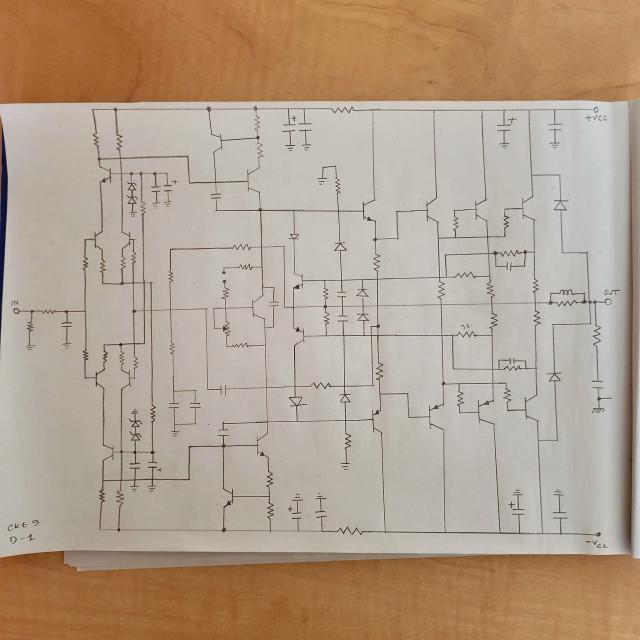capacitor: (496, 116, 518, 136), (506, 500, 526, 517), (281, 115, 297, 134), (297, 118, 313, 134), (163, 179, 179, 194), (286, 505, 302, 520), (551, 509, 569, 520), (146, 460, 162, 472), (218, 382, 230, 398), (547, 121, 564, 132), (589, 378, 604, 390), (215, 427, 231, 437), (313, 509, 328, 519), (166, 401, 181, 411), (267, 299, 280, 310), (128, 460, 142, 470), (502, 260, 514, 270), (336, 313, 348, 323), (208, 192, 223, 200), (187, 401, 200, 410), (58, 321, 74, 328), (335, 290, 347, 299), (151, 183, 160, 194), (506, 356, 517, 364)
crossover: (334, 208, 342, 214), (166, 306, 174, 312), (212, 179, 219, 185), (342, 418, 350, 423), (374, 302, 380, 308), (264, 419, 270, 425), (258, 243, 264, 249), (149, 476, 155, 482), (485, 250, 491, 256), (489, 366, 494, 372), (374, 276, 380, 281), (291, 304, 297, 309), (341, 333, 346, 339), (293, 383, 298, 389), (132, 476, 137, 482), (118, 477, 124, 482), (141, 279, 146, 285), (118, 155, 123, 161), (119, 170, 123, 177), (533, 300, 538, 305), (263, 385, 268, 390), (485, 234, 490, 239), (488, 302, 494, 306), (339, 304, 345, 308), (342, 384, 348, 388), (130, 280, 136, 284), (132, 340, 136, 346), (222, 306, 228, 310), (375, 333, 381, 337), (440, 332, 444, 337), (339, 277, 343, 282), (142, 308, 146, 313), (369, 332, 373, 337), (490, 380, 494, 384), (439, 302, 443, 306), (361, 304, 365, 308)
diode: (286, 394, 307, 408), (551, 197, 569, 213), (332, 240, 348, 254), (546, 371, 562, 384), (286, 231, 302, 242), (127, 417, 143, 428), (128, 430, 142, 442), (126, 194, 138, 207), (338, 392, 352, 403), (355, 312, 370, 322), (355, 288, 369, 298), (125, 180, 136, 191)
ground: (314, 175, 328, 187), (284, 142, 298, 153), (497, 139, 511, 150), (548, 139, 560, 150), (299, 141, 312, 151), (339, 461, 352, 471), (312, 492, 326, 501), (550, 488, 562, 498), (23, 343, 38, 351), (292, 491, 303, 501), (61, 341, 71, 352), (168, 429, 180, 438), (146, 484, 158, 493), (590, 407, 605, 414), (511, 488, 521, 498), (129, 483, 139, 492), (129, 408, 139, 416), (128, 210, 137, 218), (152, 201, 160, 209), (163, 201, 172, 208), (148, 307, 153, 312)
inductor: (558, 288, 573, 296)
junction: (204, 105, 213, 114), (439, 528, 448, 536), (430, 107, 438, 114), (369, 106, 376, 114), (252, 104, 259, 112), (440, 380, 447, 388), (448, 332, 455, 339), (255, 134, 262, 141), (595, 395, 602, 402), (478, 107, 486, 113), (550, 106, 558, 112), (374, 322, 380, 330), (516, 528, 522, 536), (186, 443, 192, 450), (115, 527, 122, 533), (557, 530, 564, 536), (525, 106, 532, 112), (89, 106, 96, 112), (141, 340, 147, 347), (270, 286, 277, 292), (220, 526, 226, 533), (489, 333, 496, 339), (293, 418, 300, 424), (62, 309, 70, 314), (167, 246, 173, 252), (559, 250, 565, 256), (82, 236, 88, 242), (584, 249, 590, 255), (184, 153, 190, 159), (556, 172, 562, 178), (257, 206, 263, 212), (318, 528, 324, 534), (186, 179, 192, 185), (529, 172, 535, 178), (28, 308, 34, 314), (204, 386, 210, 392), (554, 437, 560, 443), (301, 106, 307, 112), (259, 264, 265, 270), (580, 298, 586, 304), (540, 530, 546, 536), (497, 530, 503, 536), (119, 280, 125, 286), (112, 106, 118, 112), (333, 163, 338, 170), (186, 476, 191, 482), (451, 366, 456, 372), (394, 208, 399, 214), (394, 236, 400, 241), (262, 342, 267, 348), (404, 391, 410, 396), (267, 528, 272, 534), (213, 208, 219, 213), (406, 413, 411, 419), (372, 236, 377, 242), (501, 107, 507, 112), (283, 304, 288, 310), (203, 306, 208, 312), (193, 388, 198, 394), (148, 450, 154, 455), (587, 322, 592, 328), (533, 365, 539, 370), (377, 391, 383, 396), (382, 529, 388, 534), (131, 308, 136, 314), (100, 281, 106, 286), (82, 374, 87, 380), (131, 376, 137, 381), (131, 237, 136, 243), (321, 165, 326, 170), (291, 208, 296, 213), (322, 304, 327, 309), (587, 300, 592, 305), (523, 366, 528, 371), (295, 527, 300, 532), (149, 280, 154, 285), (531, 248, 535, 254), (286, 106, 290, 112), (281, 244, 287, 248), (321, 279, 327, 283), (360, 277, 364, 283), (269, 325, 275, 329), (260, 286, 266, 290), (220, 444, 226, 448), (118, 449, 124, 453), (550, 322, 556, 326), (591, 300, 597, 304), (582, 290, 586, 296), (493, 250, 497, 256), (451, 209, 457, 213), (456, 382, 462, 386), (96, 156, 102, 160), (502, 234, 507, 238), (212, 326, 217, 330), (172, 422, 177, 426), (221, 420, 226, 424), (132, 450, 137, 454), (98, 526, 102, 531), (101, 478, 105, 483), (548, 292, 553, 296), (548, 300, 552, 305), (523, 249, 527, 254), (368, 324, 373, 328), (369, 383, 374, 387), (503, 380, 507, 385), (536, 437, 540, 442), (323, 334, 328, 338), (83, 309, 87, 314), (102, 342, 106, 347), (262, 326, 266, 330), (212, 306, 216, 310), (225, 344, 229, 348), (193, 422, 197, 426), (267, 494, 271, 498), (522, 264, 526, 268), (494, 264, 498, 268), (488, 274, 492, 278), (437, 274, 441, 278), (444, 274, 448, 278), (453, 236, 457, 240), (503, 207, 507, 211), (362, 333, 366, 337), (497, 358, 501, 362), (523, 358, 527, 362), (496, 367, 500, 371), (458, 410, 462, 414), (118, 342, 122, 346), (152, 171, 156, 175), (138, 171, 142, 175), (129, 172, 133, 176), (436, 237, 441, 240), (506, 407, 509, 412), (172, 389, 176, 392), (165, 172, 168, 175), (444, 253, 446, 257), (222, 266, 226, 268)
resistor: (335, 525, 365, 536), (329, 104, 356, 114), (591, 324, 602, 348), (454, 329, 480, 339), (219, 317, 231, 338), (453, 270, 477, 280), (532, 307, 542, 328), (454, 390, 465, 409), (342, 431, 352, 451), (488, 312, 498, 332), (91, 130, 101, 150), (372, 251, 381, 273), (555, 298, 577, 307), (114, 490, 126, 506), (485, 280, 495, 299), (436, 281, 446, 300), (97, 253, 106, 274), (332, 174, 341, 195), (499, 249, 520, 258), (375, 360, 384, 381), (309, 381, 332, 389), (232, 243, 252, 252), (236, 261, 254, 271), (167, 339, 177, 357), (115, 132, 124, 151), (138, 198, 147, 217), (265, 468, 273, 489), (266, 500, 274, 521), (252, 115, 261, 133), (149, 401, 156, 424), (254, 142, 264, 158), (502, 364, 522, 372), (322, 311, 331, 328), (220, 286, 230, 301), (81, 256, 90, 272), (451, 216, 460, 232), (531, 276, 539, 294), (80, 347, 90, 361), (118, 349, 126, 366), (502, 213, 510, 230), (502, 388, 511, 403), (98, 489, 107, 504), (166, 268, 174, 284), (26, 319, 34, 333), (40, 308, 56, 315), (101, 349, 108, 363), (132, 353, 138, 369), (231, 343, 250, 348), (120, 254, 126, 269), (130, 250, 136, 264), (322, 286, 328, 299)
terminal: (219, 269, 228, 283), (602, 298, 614, 306), (11, 306, 21, 315), (592, 529, 602, 538), (592, 106, 600, 113), (607, 395, 612, 401)
text: (584, 112, 608, 122), (585, 538, 607, 548), (602, 287, 620, 296), (459, 322, 472, 330), (8, 298, 20, 306)
transistor: (242, 164, 266, 195), (475, 395, 498, 426), (522, 392, 540, 425), (252, 432, 274, 459), (425, 403, 446, 431), (359, 196, 378, 224), (471, 195, 490, 223), (518, 194, 536, 222), (250, 292, 267, 320), (208, 130, 225, 156), (368, 407, 383, 435), (423, 196, 438, 222), (118, 226, 132, 252), (221, 484, 236, 508), (290, 324, 306, 346), (98, 164, 114, 186), (98, 443, 115, 463), (118, 368, 132, 392), (91, 228, 105, 252), (93, 368, 108, 390), (292, 268, 304, 292)
